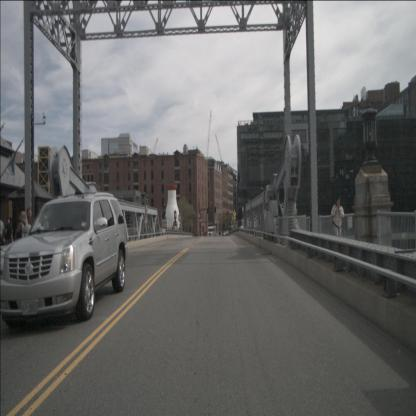human-pedestrian-adult: (330, 197, 344, 260), (16, 210, 28, 263), (24, 208, 36, 260), (4, 215, 13, 258), (0, 218, 5, 253)
vehicle-car: (0, 192, 128, 328)
vehicle-truck: (208, 226, 217, 237)
